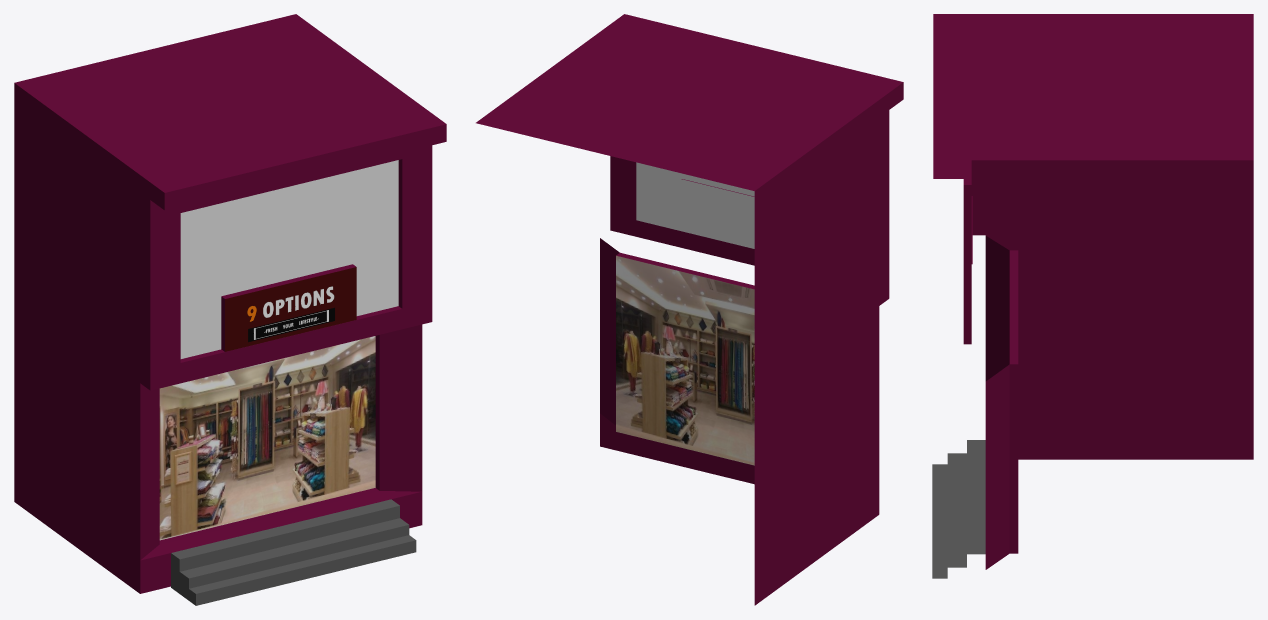
The model's file is 9 opton fbx.fbx.
3 views of the same model, side by side, from view 1: azimuth 30°, elevation 25°; view 2: azimuth 150°, elevation 25°; view 3: azimuth 270°, elevation 25° (orthographic). The views are drawn at different scales.
Visible parts, largest first — view 1: pCube1, pCube3, pCube2; view 2: pCube1; view 3: pCube1, pCube3.
Boxes of the visible parts, x1=… form: pCube1: x1=14, y1=14, x2=446, y2=593; pCube3: x1=171, y1=499, x2=416, y2=605; pCube2: x1=221, y1=264, x2=356, y2=351; pCube1: x1=476, y1=14, x2=903, y2=605; pCube1: x1=933, y1=14, x2=1253, y2=569; pCube3: x1=932, y1=440, x2=985, y2=578.
Bounding box in the file's own units: 4.71 × 6.71 × 4.37.
5 materials, 2 textured.
